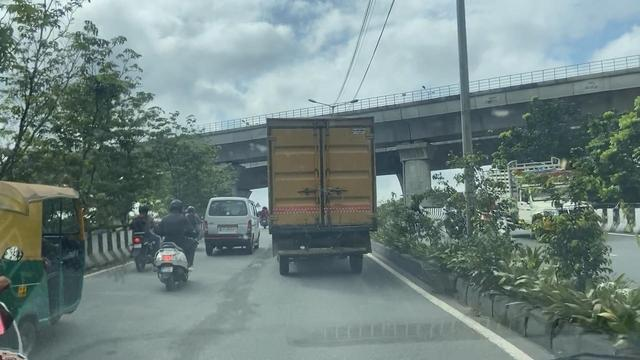HMV: (267, 117, 375, 277)
LMV: (0, 184, 97, 346), (158, 206, 194, 288), (207, 196, 251, 255), (131, 203, 152, 273)
